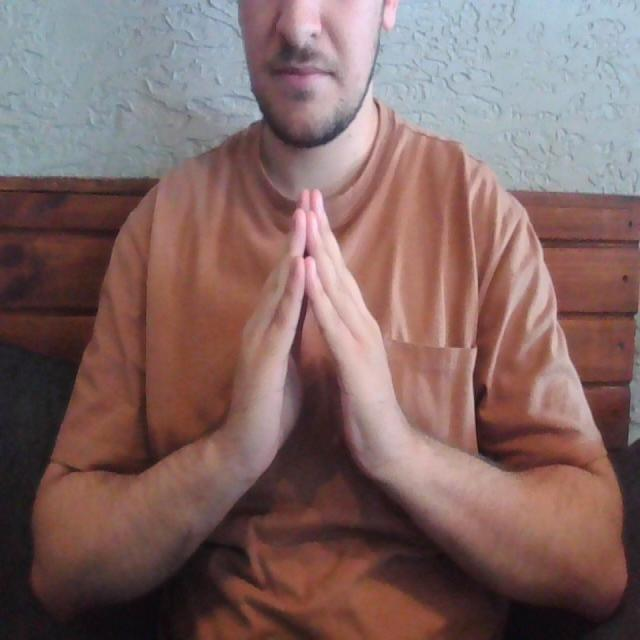Ev: (212, 181, 412, 477)
